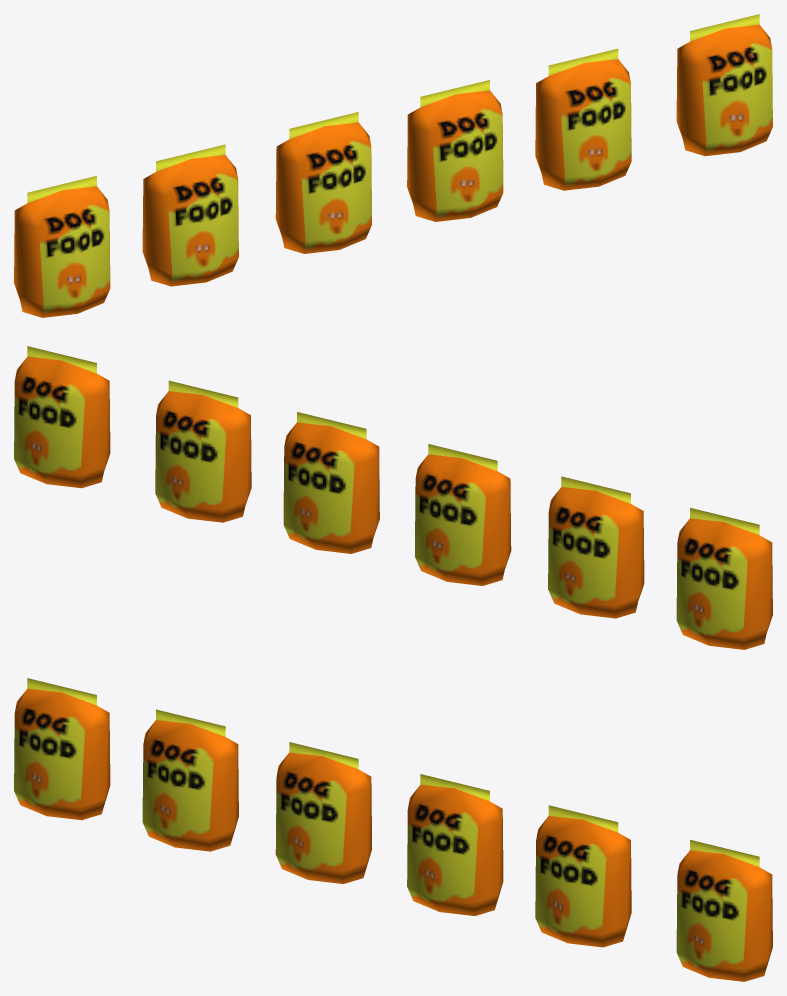
The model's file is Bundle_Dogfood.fbx.
3 views of the same model, one above another, from view 1: azimuth 30°, elevation 25°; view 2: azimuth 150°, elevation 25°; view 3: azimuth 330°, elevation 25° (orthographic).
Visible parts, largest first — view 1: Bundle_Dogfood_1; view 2: Bundle_Dogfood_1; view 3: Bundle_Dogfood_1.
Part boxes in pixels (<box>): Bundle_Dogfood_1: <box>14,14,772,317</box>; Bundle_Dogfood_1: <box>14,346,772,649</box>; Bundle_Dogfood_1: <box>14,678,772,981</box>.
Size of the model in its own units: 437 by 65.43 by 42.23.
